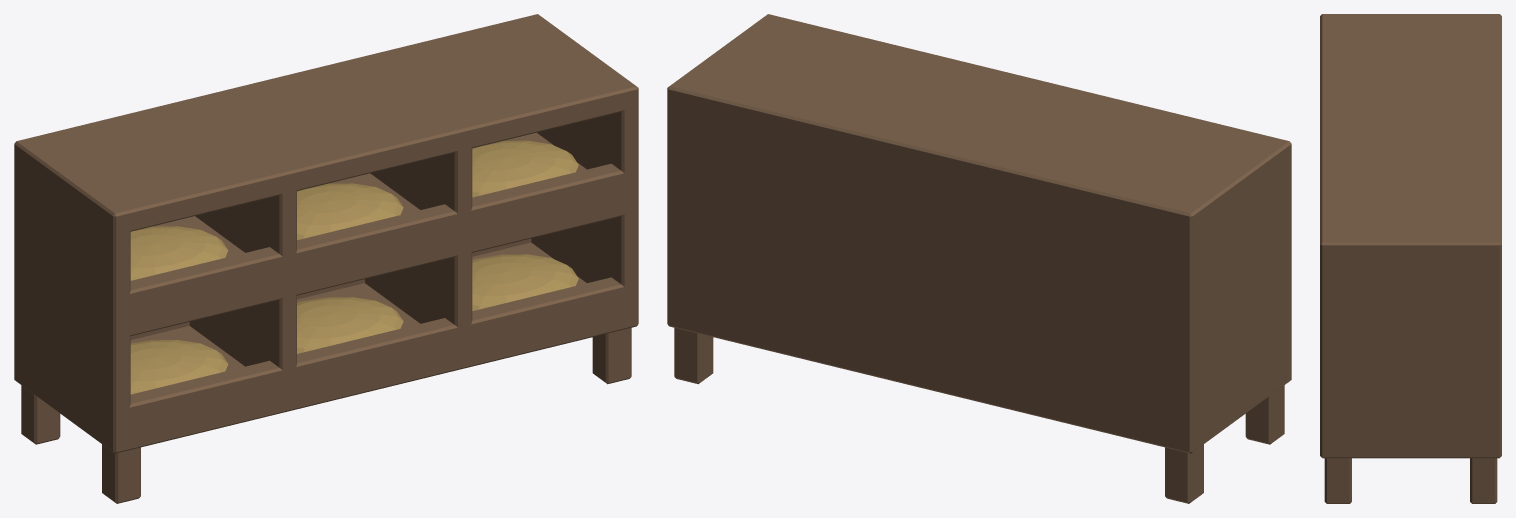
Rendered from SM_Henhouse_Nest_ThreeBay_A.fbx.
3 renders of one model, left to right at view 1: azimuth 30°, elevation 25°; view 2: azimuth 150°, elevation 25°; view 3: azimuth 270°, elevation 25°, orthographic. The views are drawn at different scales.
Parts seen in each view (by area): view 1: SM_Henhouse_Nest_ThreeBay_A; view 2: SM_Henhouse_Nest_ThreeBay_A; view 3: SM_Henhouse_Nest_ThreeBay_A.
Part boxes in pixels (box(x1,y1,x2,y2)): SM_Henhouse_Nest_ThreeBay_A: box(14, 14, 638, 503); SM_Henhouse_Nest_ThreeBay_A: box(667, 14, 1291, 503); SM_Henhouse_Nest_ThreeBay_A: box(1320, 14, 1501, 503).
Size of what is drawn, in the model's own units: 100 by 300 by 160.
